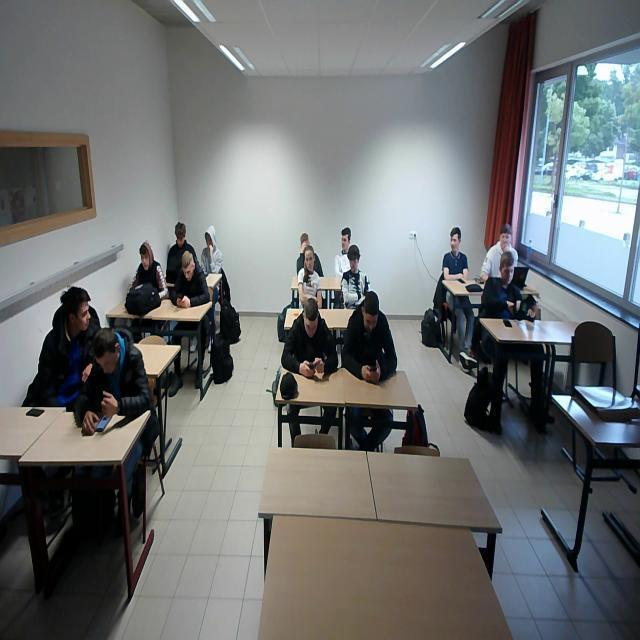Looking away: (348, 246, 367, 270), (448, 224, 462, 252)
Looking forward: (134, 239, 158, 275), (493, 222, 517, 252), (304, 246, 322, 280)
Phone use: (81, 339, 150, 441), (340, 294, 396, 386), (277, 294, 335, 378), (482, 249, 530, 320), (168, 248, 211, 316)
Turning around: (44, 267, 100, 341)
